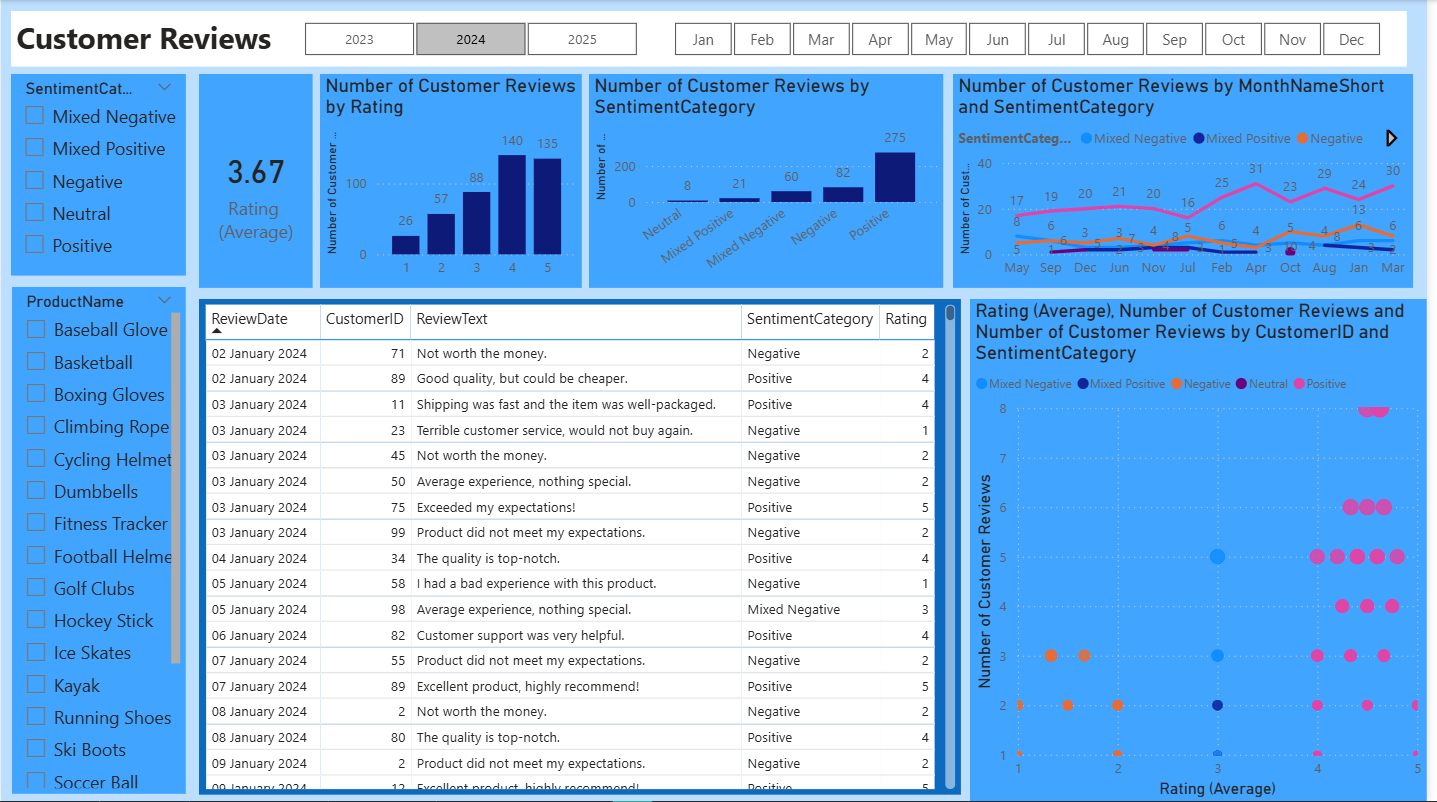

The page's visual inventory and layout, read from the dashboard file:
{"tool":"powerbi","page":{"name":"Customer Review Details","canvas":[1280,720],"ordinal":3},"visuals":[{"type":"textbox","box":[8.8,9.7,1252.8,49.6],"z":0},{"type":"slicer","fields":{"Values":["dim_products.ProductName"]},"box":[10.1,258,156.1,455.4],"z":1000},{"type":"slicer","fields":{"Values":["Calender Calendar.Year"]},"box":[247.1,13.6,348.2,42.8],"z":2000},{"type":"slicer","fields":{"Values":["Calender Calendar.MonthNameShort"]},"box":[578.7,13.6,682.8,42.8],"z":3000},{"type":"card","fields":{"Values":["_Calculations.Rating (Average)"]},"box":[178.1,66.1,101.9,191.9],"z":4000},{"type":"clusteredColumnChart","fields":{"Y":["_Calculations.Number of Customer Reviews"],"Category":["fact_customer_reviews_with_sentiment.Rating"]},"box":[286.5,66.1,235.1,191.9],"z":5000},{"type":"clusteredColumnChart","fields":{"Y":["_Calculations.Number of Customer Reviews"],"Category":["fact_customer_reviews_with_sentiment.SentimentCategory"]},"box":[528,66.1,317.7,191.9],"z":6000},{"type":"lineChart","fields":{"Category":["Calender Calendar.MonthNameShort"],"Y":["_Calculations.Number of Customer Reviews"],"Series":["fact_customer_reviews_with_sentiment.SentimentCategory"]},"box":[854.9,66.1,413.2,191.9],"z":7000},{"type":"tableEx","fields":{"Values":["fact_customer_reviews_with_sentiment.ReviewDate","fact_customer_reviews_with_sentiment.CustomerID","fact_customer_reviews_with_sentiment.ReviewText","fact_customer_reviews_with_sentiment.SentimentCategory","fact_customer_reviews_with_sentiment.Rating"]},"box":[178.1,268.1,684.1,445.3],"z":8000},{"type":"scatterChart","fields":{"X":["_Calculations.Rating (Average)"],"Y":["_Calculations.Number of Customer Reviews"],"Series":["fact_customer_reviews_with_sentiment.SentimentCategory"],"Category":["dim_customers.CustomerID"],"Size":["_Calculations.Number of Customer Reviews"]},"box":[869.6,268.1,410.4,451.8],"z":8001},{"type":"slicer","fields":{"Values":["fact_customer_reviews_with_sentiment.SentimentCategory"]},"box":[9.2,66.1,157,180.9],"z":8002}]}

Visuals, with their boxes in screenshot pixels (x1, y1, x2, y2), scaled from the page's 1280x720 canvas onto the 1437x802 screenshot:
textbox: {"left": 10, "top": 11, "right": 1416, "bottom": 66}
slicer - dim_products.ProductName: {"left": 11, "top": 287, "right": 187, "bottom": 795}
slicer - Calender Calendar.Year: {"left": 277, "top": 15, "right": 668, "bottom": 63}
slicer - Calender Calendar.MonthNameShort: {"left": 650, "top": 15, "right": 1416, "bottom": 63}
card - _Calculations.Rating (Average): {"left": 200, "top": 74, "right": 314, "bottom": 287}
clusteredColumnChart - _Calculations.Number of Customer Reviews x fact_customer_reviews_with_sentiment.Rating: {"left": 322, "top": 74, "right": 586, "bottom": 287}
clusteredColumnChart - _Calculations.Number of Customer Reviews x fact_customer_reviews_with_sentiment.SentimentCategory: {"left": 593, "top": 74, "right": 949, "bottom": 287}
lineChart - Calender Calendar.MonthNameShort x _Calculations.Number of Customer Reviews: {"left": 960, "top": 74, "right": 1424, "bottom": 287}
tableEx - fact_customer_reviews_with_sentiment.ReviewDate x fact_customer_reviews_with_sentiment.CustomerID: {"left": 200, "top": 299, "right": 968, "bottom": 795}
scatterChart - _Calculations.Rating (Average) x _Calculations.Number of Customer Reviews: {"left": 976, "top": 299, "right": 1436, "bottom": 801}
slicer - fact_customer_reviews_with_sentiment.SentimentCategory: {"left": 10, "top": 74, "right": 187, "bottom": 275}
